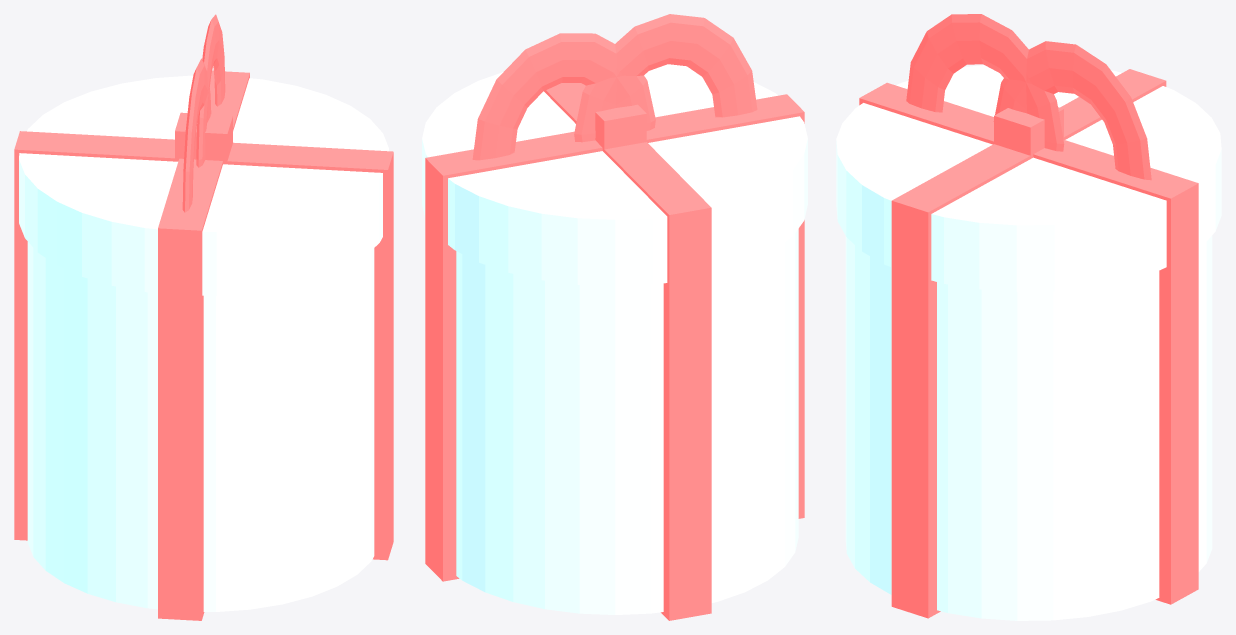
Rendered from Tmpl_Round_Root_235.glb.
3 views of the same model, side by side, from view 1: azimuth 30°, elevation 25°; view 2: azimuth 150°, elevation 25°; view 3: azimuth 270°, elevation 25° (orthographic). The views are drawn at different scales.
Parts seen in each view (by area): view 1: Tmpl_Round_Base.233, Tmpl_Round_Lid.233, Tmpl_Round_Ribbon_X.233, Tmpl_Round_Ribbon_Y.233, Tmpl_Round_BowL.233, Tmpl_Round_BowR.233, Tmpl_Round_BowKnot.233; view 2: Tmpl_Round_Base.233, Tmpl_Round_Lid.233, Tmpl_Round_Ribbon_Y.233, Tmpl_Round_Ribbon_X.233, Tmpl_Round_BowR.233, Tmpl_Round_BowL.233, Tmpl_Round_BowKnot.233; view 3: Tmpl_Round_Base.233, Tmpl_Round_Lid.233, Tmpl_Round_Ribbon_Y.233, Tmpl_Round_Ribbon_X.233, Tmpl_Round_BowR.233, Tmpl_Round_BowL.233, Tmpl_Round_BowKnot.233.
Boxes of the visible parts, bbox=[...] form: Tmpl_Round_Base.233: bbox=[27, 241, 374, 611]; Tmpl_Round_Lid.233: bbox=[19, 75, 388, 295]; Tmpl_Round_Ribbon_X.233: bbox=[158, 70, 249, 620]; Tmpl_Round_Ribbon_Y.233: bbox=[14, 131, 393, 560]; Tmpl_Round_BowL.233: bbox=[196, 14, 225, 167]; Tmpl_Round_BowR.233: bbox=[182, 58, 211, 212]; Tmpl_Round_BowKnot.233: bbox=[175, 112, 232, 164]; Tmpl_Round_Base.233: bbox=[456, 229, 798, 614]; Tmpl_Round_Lid.233: bbox=[422, 64, 807, 286]; Tmpl_Round_Ribbon_Y.233: bbox=[544, 83, 711, 620]; Tmpl_Round_Ribbon_X.233: bbox=[425, 94, 804, 581]; Tmpl_Round_BowR.233: bbox=[574, 14, 757, 142]; Tmpl_Round_BowL.233: bbox=[472, 33, 655, 160]; Tmpl_Round_BowKnot.233: bbox=[595, 104, 646, 149]; Tmpl_Round_Base.233: bbox=[845, 235, 1212, 620]; Tmpl_Round_Lid.233: bbox=[836, 65, 1221, 291]; Tmpl_Round_Ribbon_Y.233: bbox=[891, 69, 1166, 618]; Tmpl_Round_Ribbon_X.233: bbox=[859, 82, 1198, 604]; Tmpl_Round_BowR.233: bbox=[906, 14, 1064, 151]; Tmpl_Round_BowL.233: bbox=[993, 41, 1151, 180]; Tmpl_Round_BowKnot.233: bbox=[994, 107, 1063, 157].
Bounding box in the file's own units: 0.8881 × 1.32 × 0.8881.
